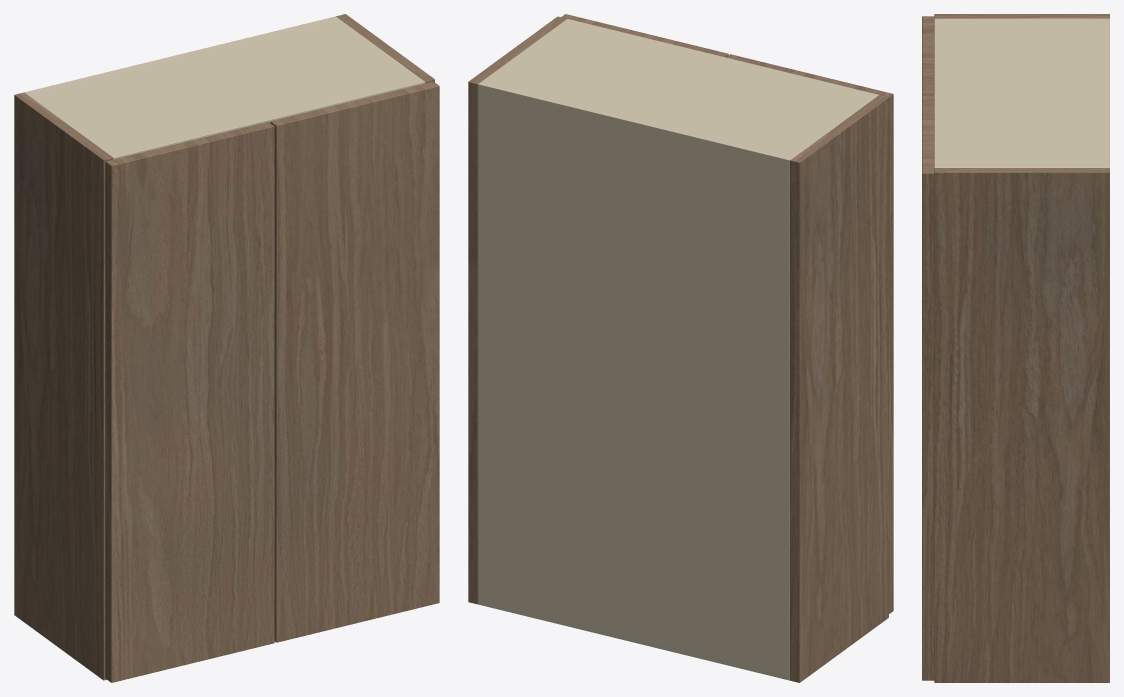
The model's file is oppein-ply-mnw-w2436.glb.
The picture shows the model from 3 angles, left to right: view 1: azimuth 30°, elevation 25°; view 2: azimuth 150°, elevation 25°; view 3: azimuth 270°, elevation 25°; orthographic projection.
Visible parts, largest first — view 1: Door, Door.001, Cabinet side, Cabinet top, Cabinet back, Cabinet side.001; view 2: Cabinet back, Cabinet side, Cabinet top, Cabinet side.001, Door, Cabinet bottom, Door.001; view 3: Cabinet side.001, Cabinet top, Door.001, Cabinet back, Door, Cabinet side.
Boxes of the visible parts, x1,y1,x2,y2 form: Door: (105,122,274,682); Door.001: (270,81,439,642); Cabinet side: (14,92,113,680); Cabinet top: (25,17,425,159); Cabinet back: (24,16,338,94); Cabinet side.001: (336,14,434,83); Cabinet back: (478,81,792,670); Cabinet side: (790,95,888,682); Cabinet top: (478,19,878,168); Cabinet side.001: (468,16,566,604); Door: (726,54,893,613); Cabinet bottom: (478,599,789,680); Door.001: (561,14,728,57); Cabinet side.001: (934,168,1109,682); Cabinet top: (934,18,1109,167); Door.001: (922,95,934,680); Cabinet back: (1103,18,1109,167); Door: (922,16,934,95); Cabinet side: (934,14,1109,18).
Bounding box in the file's own units: 0.6096 × 0.9144 × 0.3048.
Materials: 2 (1 with a texture image).
